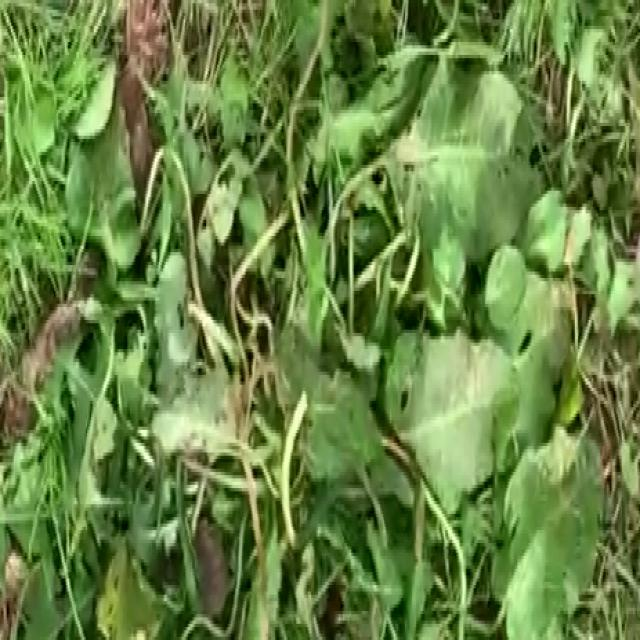organic waste: (59, 22, 592, 640)
